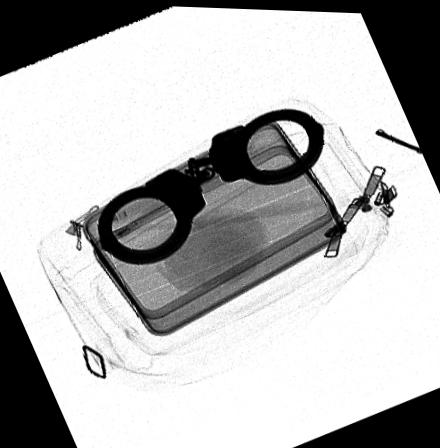HandCuffs: (98, 106, 325, 264)
